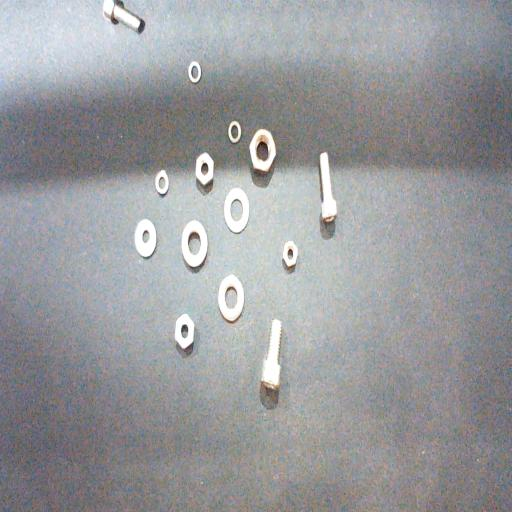nut: (249, 128, 276, 173), (174, 314, 194, 350), (196, 152, 214, 187), (282, 241, 298, 268)
screw: (262, 320, 282, 390), (319, 152, 337, 223), (102, 0, 141, 32)
washer: (218, 274, 244, 323), (182, 220, 208, 268), (224, 187, 250, 233), (134, 218, 156, 258), (155, 169, 169, 195), (188, 60, 202, 83), (228, 120, 241, 144)
